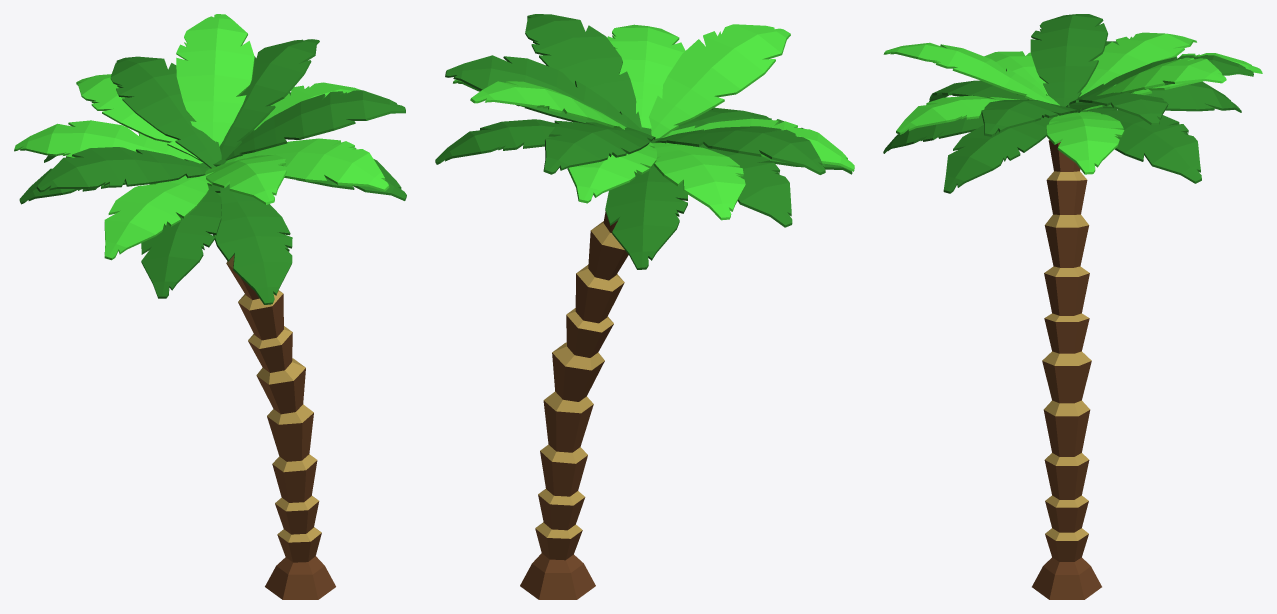
File: PALMERA.fbx
3 views of the same model, side by side, from view 1: azimuth 30°, elevation 25°; view 2: azimuth 150°, elevation 25°; view 3: azimuth 270°, elevation 25° (orthographic). The views are drawn at different scales.
Parts seen in each view (by area): view 1: Cilindro, Cubo.008, Cubo.006, Cubo.018, Cubo.001, Cubo.014, Cubo.003, Cubo.009, Cubo.004, Cubo.013, Cubo.002, Cubo.007 (+4 smaller); view 2: Cilindro, Cubo.007, Cubo.014, Cubo.015, Cubo.009, Cubo.002, Cubo.013, Cubo.001, Cubo.018, Cubo.005, Cubo.011, Cubo.008 (+3 smaller); view 3: Cilindro, Cubo.001, Cubo.011, Cubo.010, Cubo.012, Cubo.007, Cubo.002, Cubo.008, Cubo.014, Cubo.013, Cubo.015, Cubo.009 (+5 smaller).
Part boxes in pixels (<box>): Cilindro: <box>226,255,335,599</box>; Cubo.008: <box>176,14,254,146</box>; Cubo.006: <box>213,184,292,304</box>; Cubo.018: <box>110,56,221,168</box>; Cubo.001: <box>36,147,206,192</box>; Cubo.014: <box>225,90,405,160</box>; Cubo.003: <box>104,175,212,260</box>; Cubo.009: <box>219,39,319,159</box>; Cubo.004: <box>141,185,221,298</box>; Cubo.013: <box>224,138,389,191</box>; Cubo.002: <box>14,120,202,163</box>; Cubo.007: <box>205,154,286,204</box>; Cilindro: <box>520,212,628,599</box>; Cubo.007: <box>649,24,790,138</box>; Cubo.014: <box>525,14,641,128</box>; Cubo.015: <box>605,139,687,269</box>; Cubo.009: <box>445,55,640,131</box>; Cubo.002: <box>652,142,745,220</box>; Cubo.013: <box>607,24,685,129</box>; Cubo.001: <box>655,126,825,174</box>; Cubo.018: <box>543,122,655,174</box>; Cubo.005: <box>653,138,792,227</box>; Cubo.011: <box>435,119,571,164</box>; Cubo.008: <box>470,81,626,129</box>; Cilindro: <box>1032,140,1101,599</box>; Cubo.001: <box>1030,14,1107,105</box>; Cubo.011: <box>1080,108,1201,183</box>; Cubo.010: <box>943,116,1053,193</box>; Cubo.012: <box>1046,111,1124,174</box>; Cubo.007: <box>883,42,1059,105</box>; Cubo.002: <box>1079,32,1196,96</box>; Cubo.008: <box>1078,57,1226,110</box>; Cubo.014: <box>981,100,1080,136</box>; Cubo.013: <box>896,95,1019,134</box>; Cubo.015: <box>1097,81,1241,112</box>; Cubo.009: <box>1066,92,1168,125</box>.
Bounding box in the file's own units: 1102 × 1598 × 1075.
